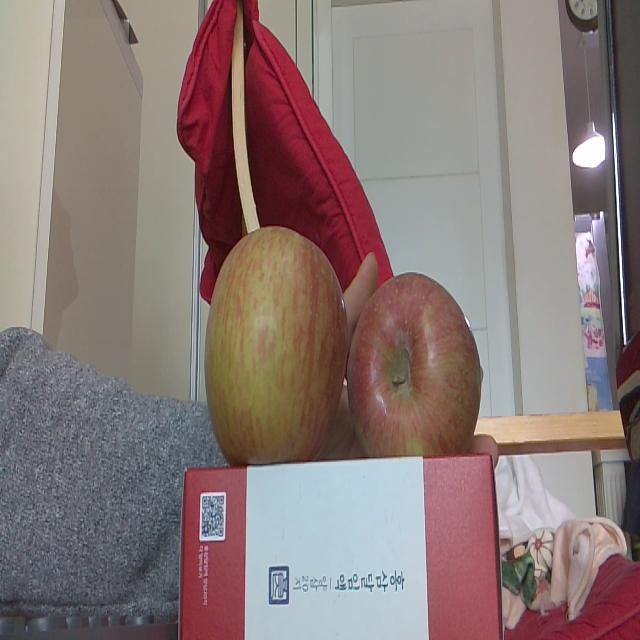apple: (204, 224, 344, 460), (347, 273, 481, 456)
